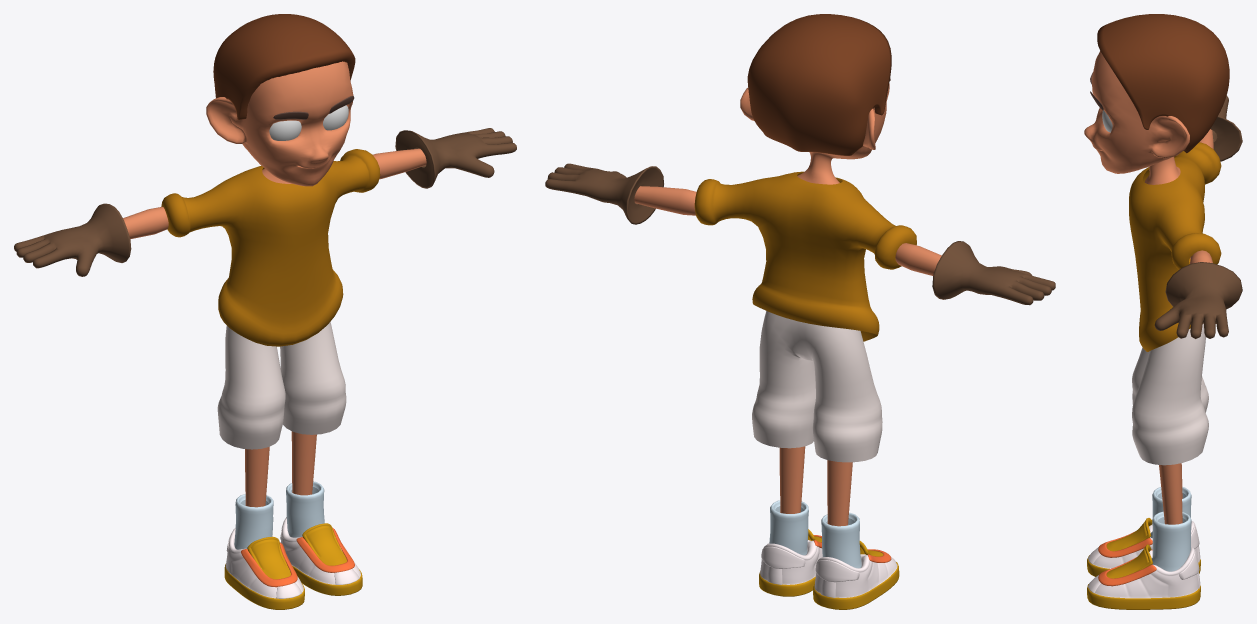
File: main_guyready_for_rigg.fbx
3 views of the same model, side by side, from view 1: azimuth 30°, elevation 25°; view 2: azimuth 150°, elevation 25°; view 3: azimuth 270°, elevation 25° (orthographic).
Parts seen in each view (by area): view 1: main.004; view 2: main.004; view 3: main.004.
Boxes of the visible parts, x1,y1,x2,y2 form: main.004: (14, 14, 516, 609); main.004: (545, 14, 1055, 609); main.004: (1084, 14, 1242, 609).
Bounding box in the file's own units: 163 × 177 × 45.16.
